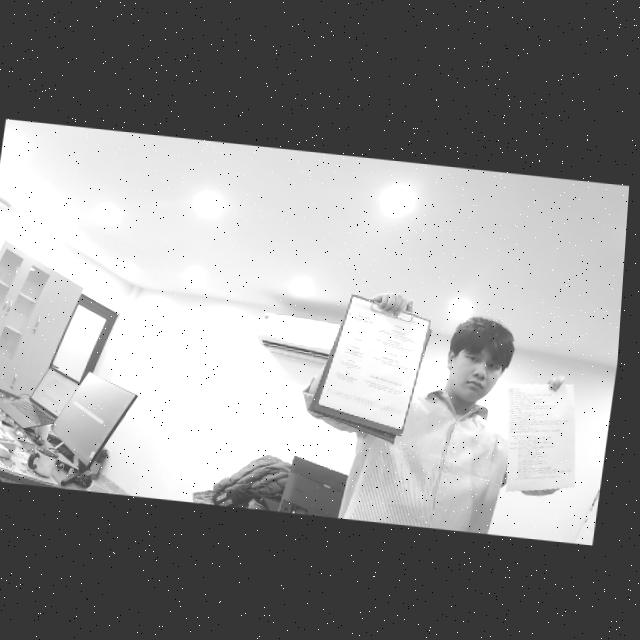document: (318, 296, 429, 429), (505, 384, 575, 491)
face: (443, 322, 511, 410)
